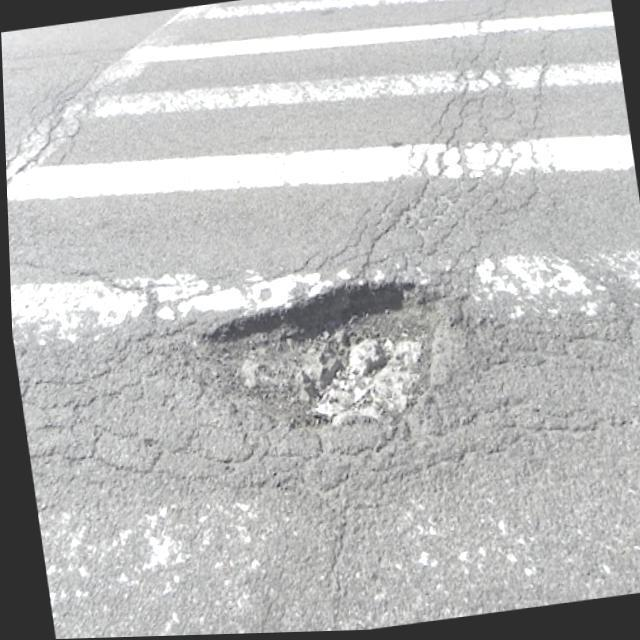Pothole: (204, 282, 464, 427)
